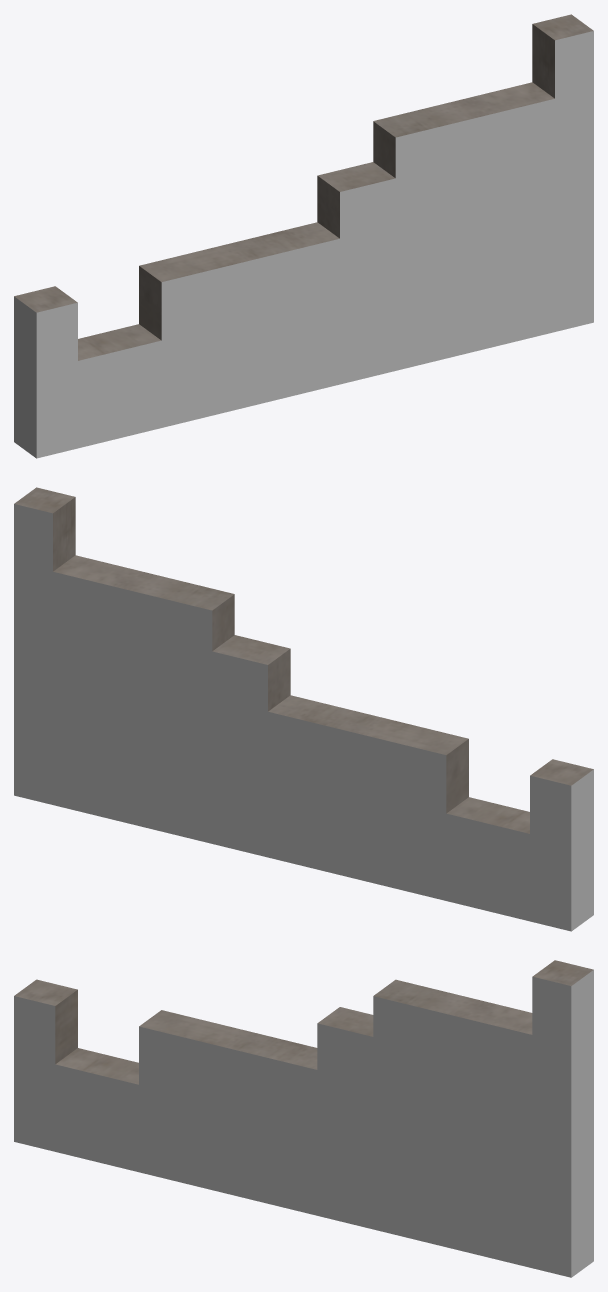
The model's file is wallSteps_typeB.fbx.
3 views of the same model, one above another, from view 1: azimuth 30°, elevation 25°; view 2: azimuth 150°, elevation 25°; view 3: azimuth 330°, elevation 25° (orthographic).
Visible parts, largest first — view 1: wallSteps_typeB; view 2: wallSteps_typeB; view 3: wallSteps_typeB.
Part boxes in pixels (bbox=[...]): wallSteps_typeB: bbox=[14, 14, 593, 458]; wallSteps_typeB: bbox=[14, 487, 593, 931]; wallSteps_typeB: bbox=[14, 960, 593, 1277].
Bounding box in the file's own units: 10 × 5 × 0.7.
